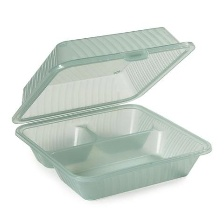plastic_box: (6, 19, 218, 206)
